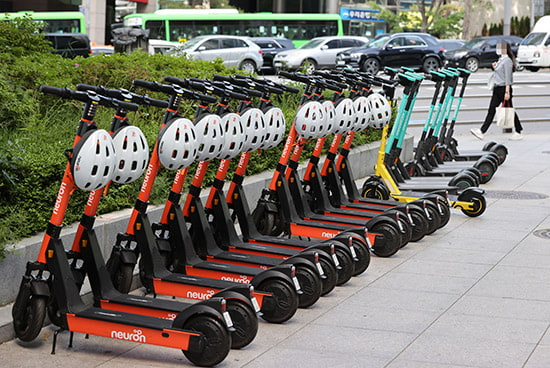scooter: (18, 85, 228, 364)
